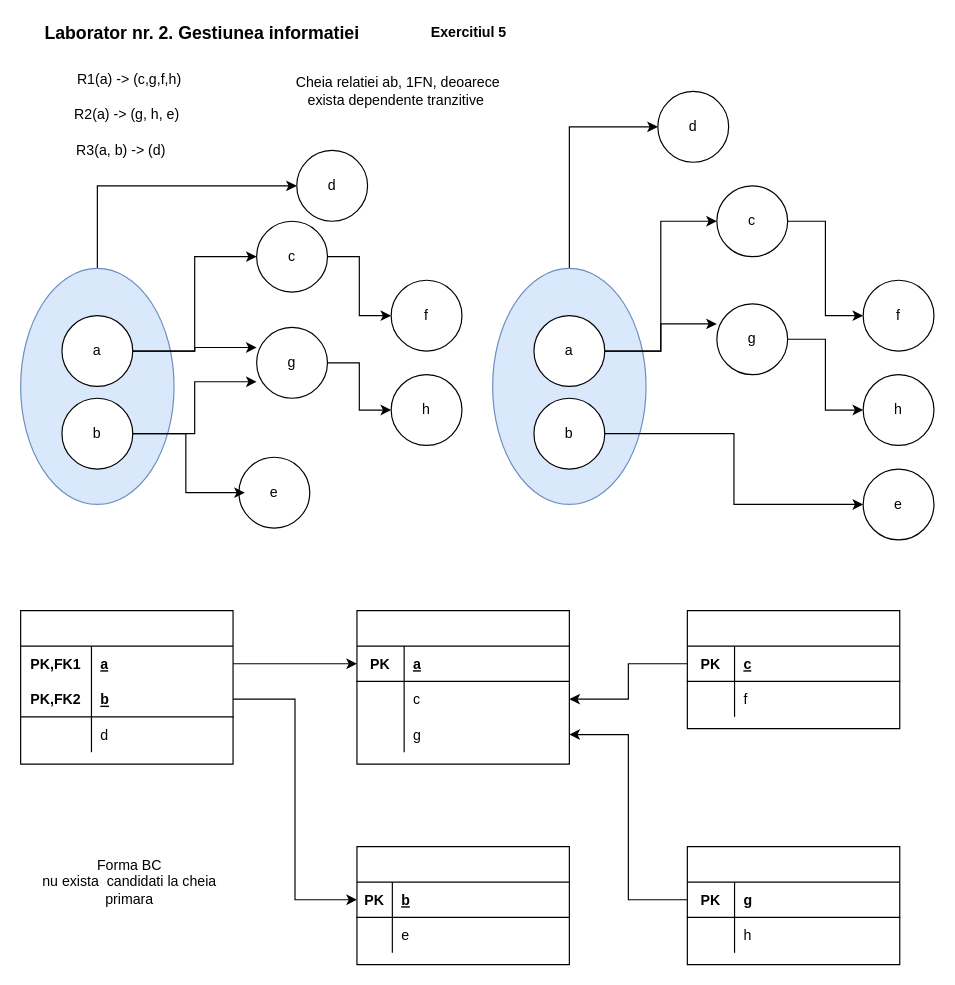
Some shapes in this 955 by 985 pixel diagram are drawn without their labels. The shapes that lost their labels are listed below. From the top down, each one's box as (x1, y1, x2, y2) in pixels, then its label:
(19, 609, 233, 764): R1
(356, 609, 569, 764): R3
(686, 609, 900, 729): R4
(356, 845, 569, 965): R2
(686, 845, 900, 965): R5
